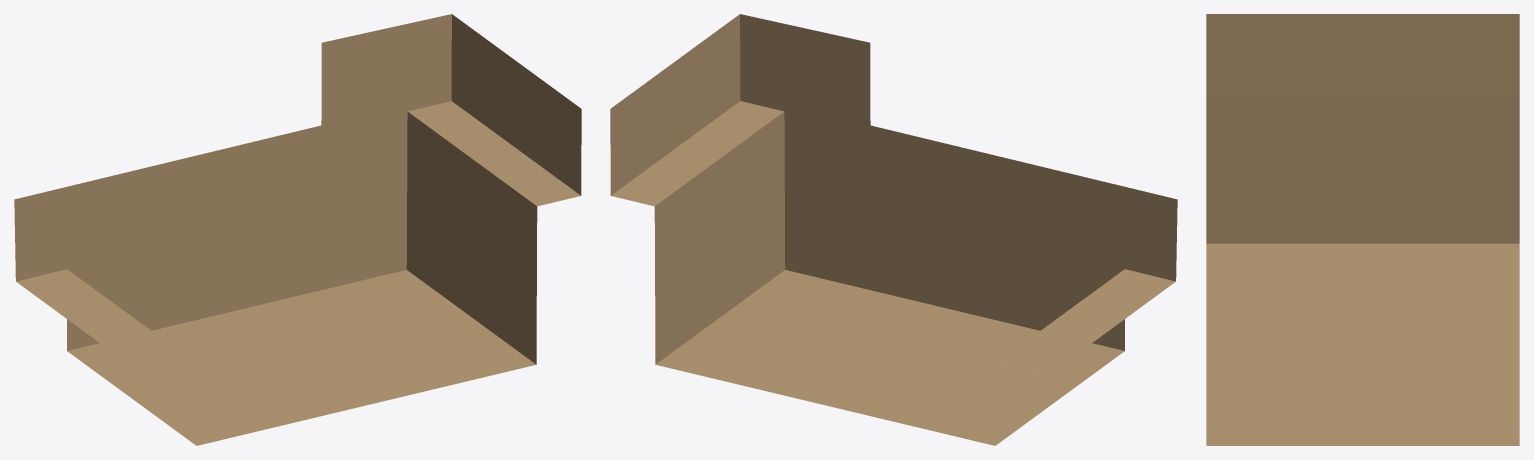
3 renders of one model, left to right at view 1: azimuth 30°, elevation 25°; view 2: azimuth 150°, elevation 25°; view 3: azimuth 270°, elevation 25°, orthographic. The views are drawn at different scales.
Visible parts, largest first — view 1: 0_0_3_2_1_0_3_0; view 2: 0_0_3_2_1_0_3_0; view 3: 0_0_3_2_1_0_3_0.
Part boxes in pixels (x1,y1,x2,y2): 0_0_3_2_1_0_3_0: [14, 14, 581, 445]; 0_0_3_2_1_0_3_0: [610, 14, 1177, 445]; 0_0_3_2_1_0_3_0: [1206, 14, 1519, 445].
Size of the model in its own units: 46.75 by 25.3 by 24.
